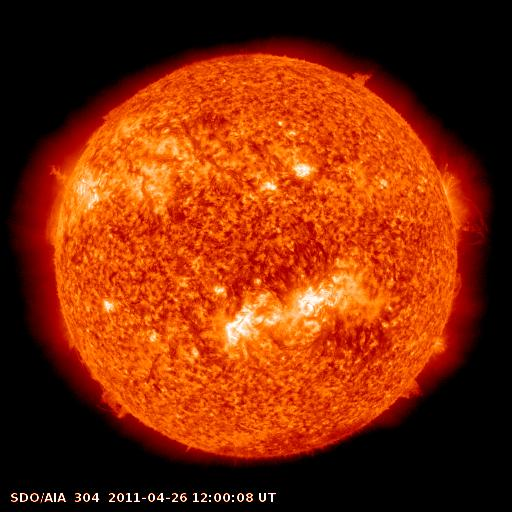prominence: (34, 160, 79, 250), (442, 201, 493, 248), (91, 384, 137, 425), (392, 370, 428, 414), (341, 58, 381, 94), (444, 271, 473, 305)
